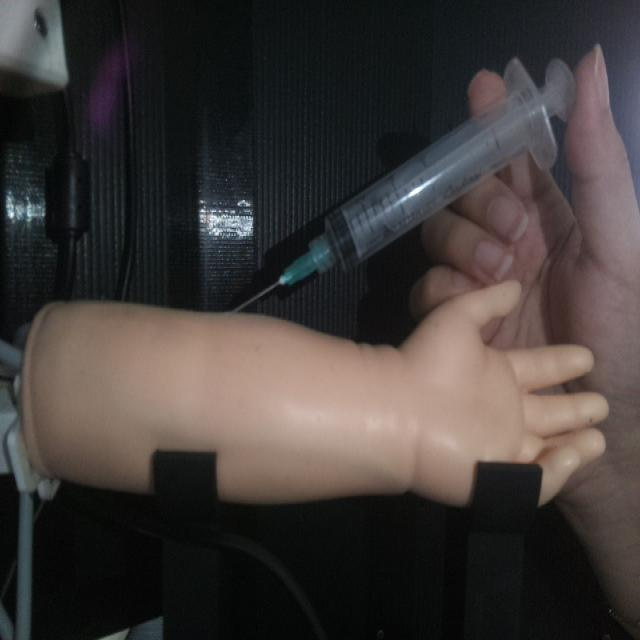Outside: (227, 52, 578, 313)
